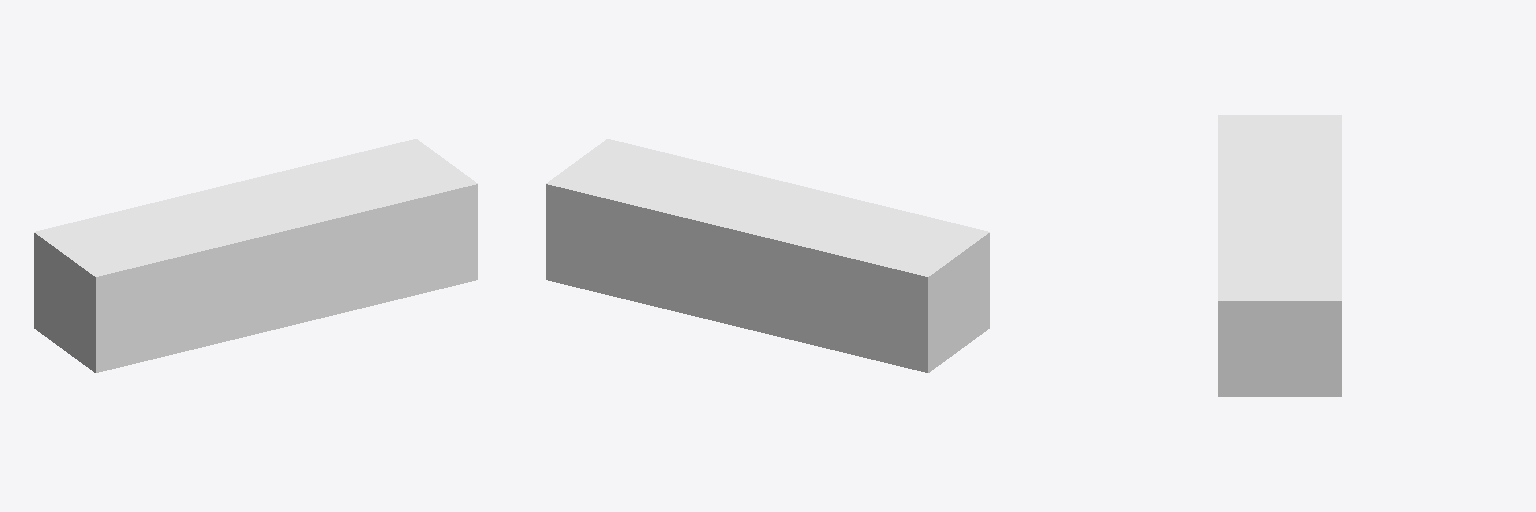
File: mob-0.obj
3 renders of one model, left to right at view 1: azimuth 30°, elevation 25°; view 2: azimuth 150°, elevation 25°; view 3: azimuth 270°, elevation 25°, orthographic.
Visible parts, largest first — view 1: object 1; view 2: object 1; view 3: object 1.
Part boxes in pixels (left/top/right/bottom): object 1: left=34, top=139, right=477, bottom=372; object 1: left=546, top=139, right=989, bottom=372; object 1: left=1218, top=115, right=1341, bottom=396.
Bounding box in the file's own units: 2.5 × 0.6 × 0.7.